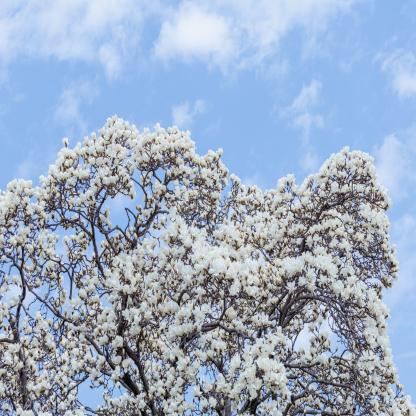Mokuren: (0, 115, 416, 416)
